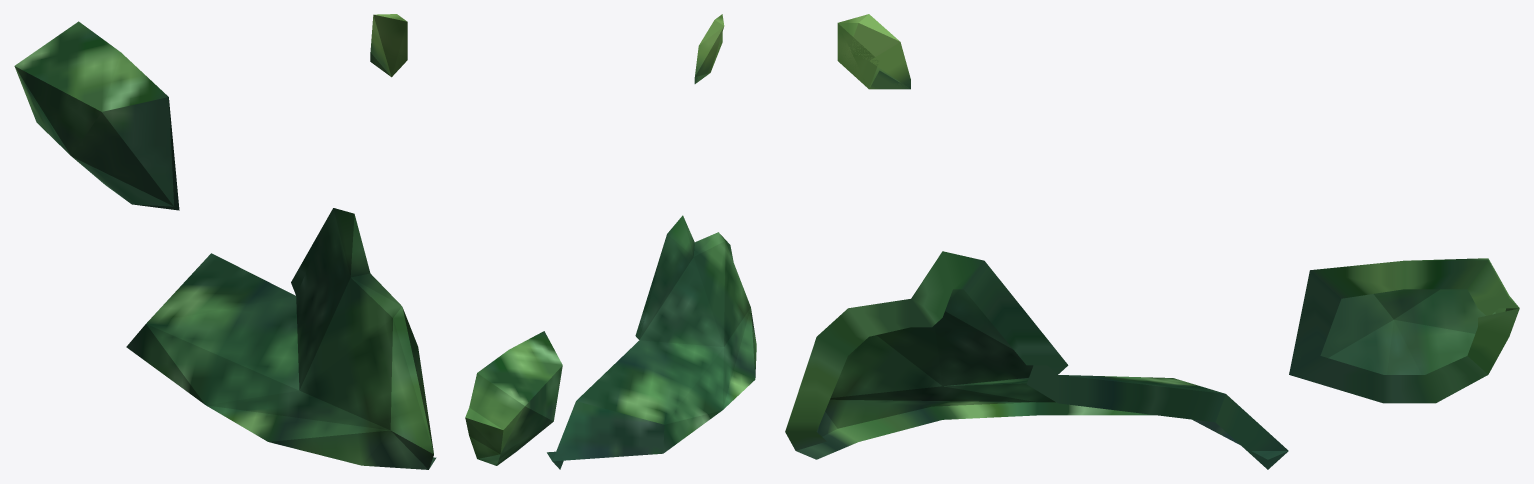
The model's file is BuildingMesh-00026.gltf.
3 views of the same model, side by side, from view 1: azimuth 30°, elevation 25°; view 2: azimuth 150°, elevation 25°; view 3: azimuth 270°, elevation 25° (orthographic). The views are drawn at different scales.
Visible parts, largest first — view 1: BuildingMesh-00026; view 2: BuildingMesh-00026; view 3: BuildingMesh-00026.
Boxes of the visible parts, left/top/right/bottom form: BuildingMesh-00026: left=14, top=14, right=436, bottom=469; BuildingMesh-00026: left=465, top=14, right=756, bottom=469; BuildingMesh-00026: left=785, top=14, right=1519, bottom=469.
Size of the model in its own units: 0.051 by 0.1843 by 0.2745.
1 material, 1 textured.
